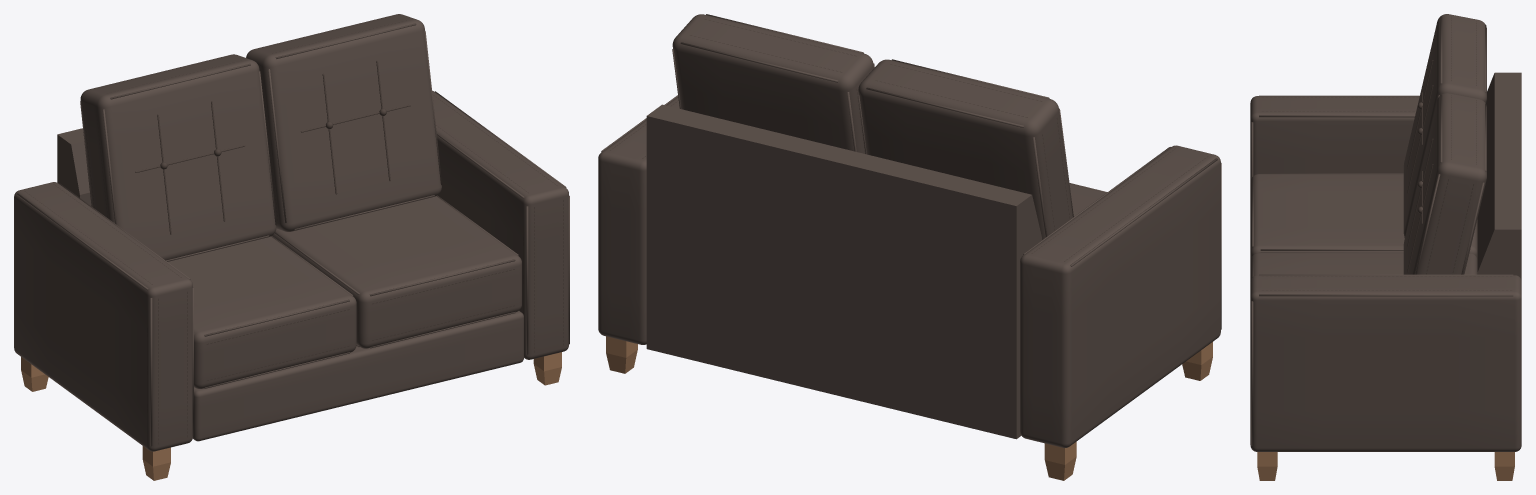
The model's file is benza_140x80.glb.
3 renders of one model, left to right at view 1: azimuth 30°, elevation 25°; view 2: azimuth 150°, elevation 25°; view 3: azimuth 270°, elevation 25°, orthographic. The views are drawn at different scales.
Parts seen in each view (by area): view 1: p1, p2, p0; view 2: p1, p0, p2; view 3: p1, p2, p0.
Boxes of the visible parts, left/top/right/bottom form: p1: left=14, top=14, right=569, bottom=451; p2: left=24, top=15, right=563, bottom=444; p0: left=21, top=352, right=561, bottom=480; p1: left=598, top=14, right=1221, bottom=447; p0: left=606, top=336, right=1212, bottom=480; p2: left=610, top=19, right=1208, bottom=261; p1: left=1250, top=14, right=1521, bottom=451; p2: left=1262, top=16, right=1511, bottom=290; p0: left=1257, top=452, right=1514, bottom=480.
Size of the model in its own units: 1.4 by 0.9642 by 0.8006.
Materials: 3 (2 with a texture image).
